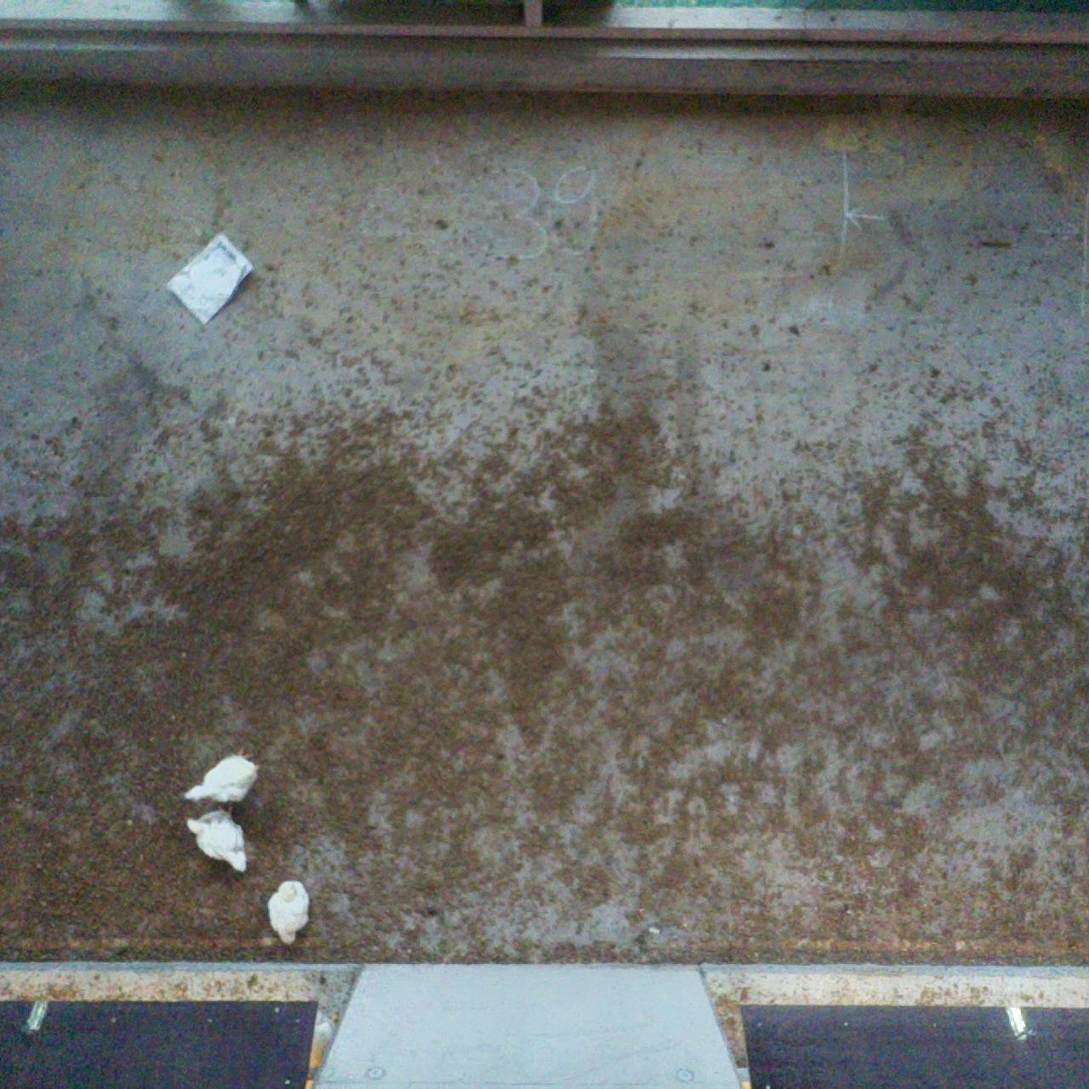chicken: (190, 812, 254, 877), (185, 752, 260, 800), (267, 877, 313, 944)
